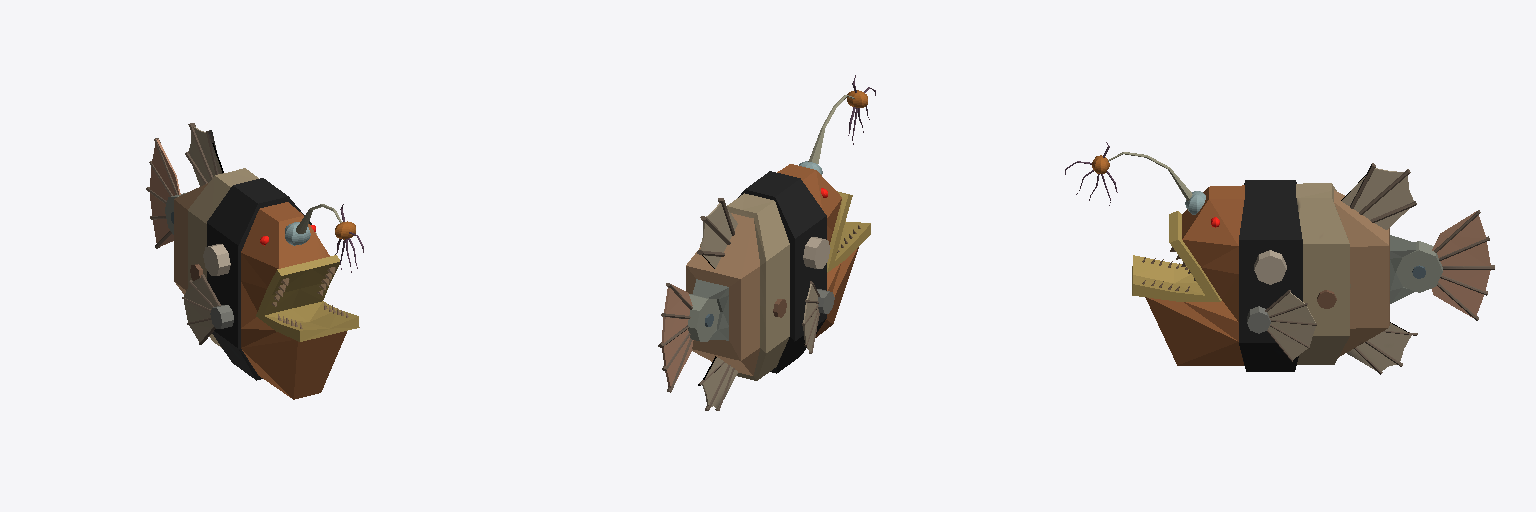
3 views of the same model, side by side, from view 1: azimuth 30°, elevation 25°; view 2: azimuth 150°, elevation 25°; view 3: azimuth 270°, elevation 25° (orthographic).
Parts seen in each view (by area): view 1: M_Body; view 2: M_Body; view 3: M_Body.
Boxes of the visible parts, <box> form: M_Body: <box>146,123,363,399</box>; M_Body: <box>658,75,875,410</box>; M_Body: <box>1065,142,1494,374</box>.
Size of the model in its own units: 32.15 by 65.44 by 108.
Materials: 1 (1 with a texture image).